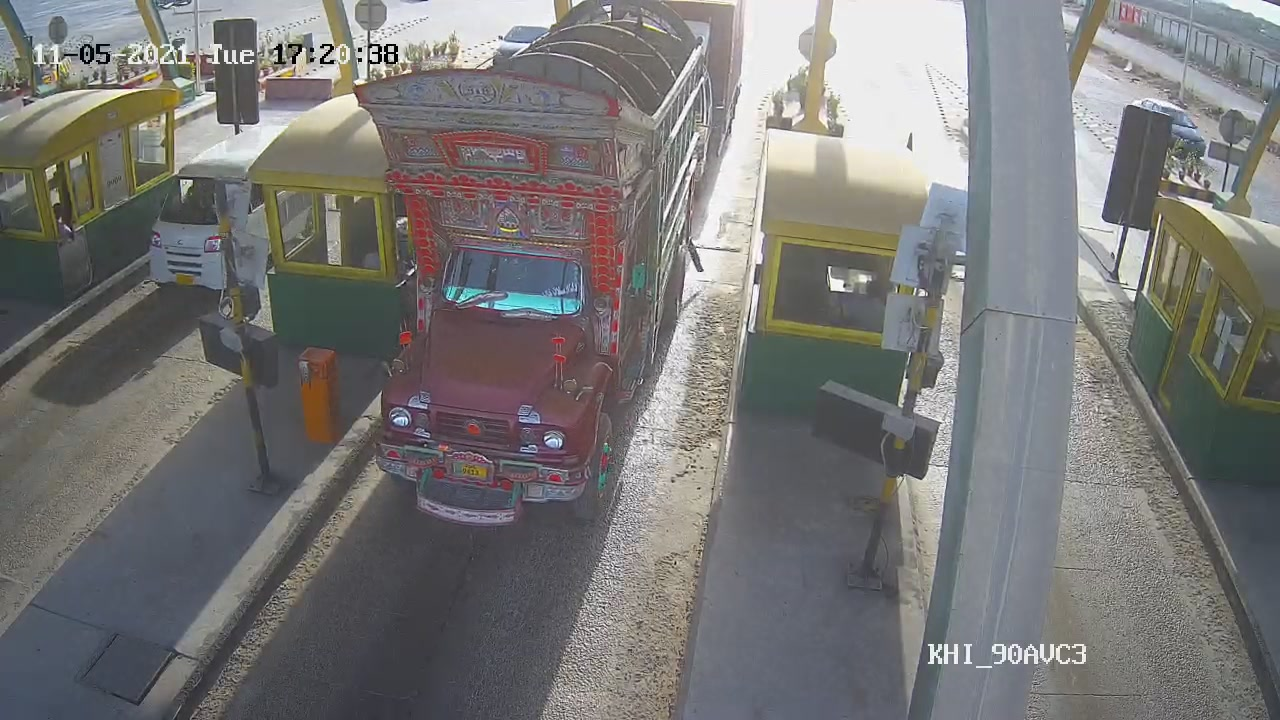F5: (362, 1, 721, 527)
